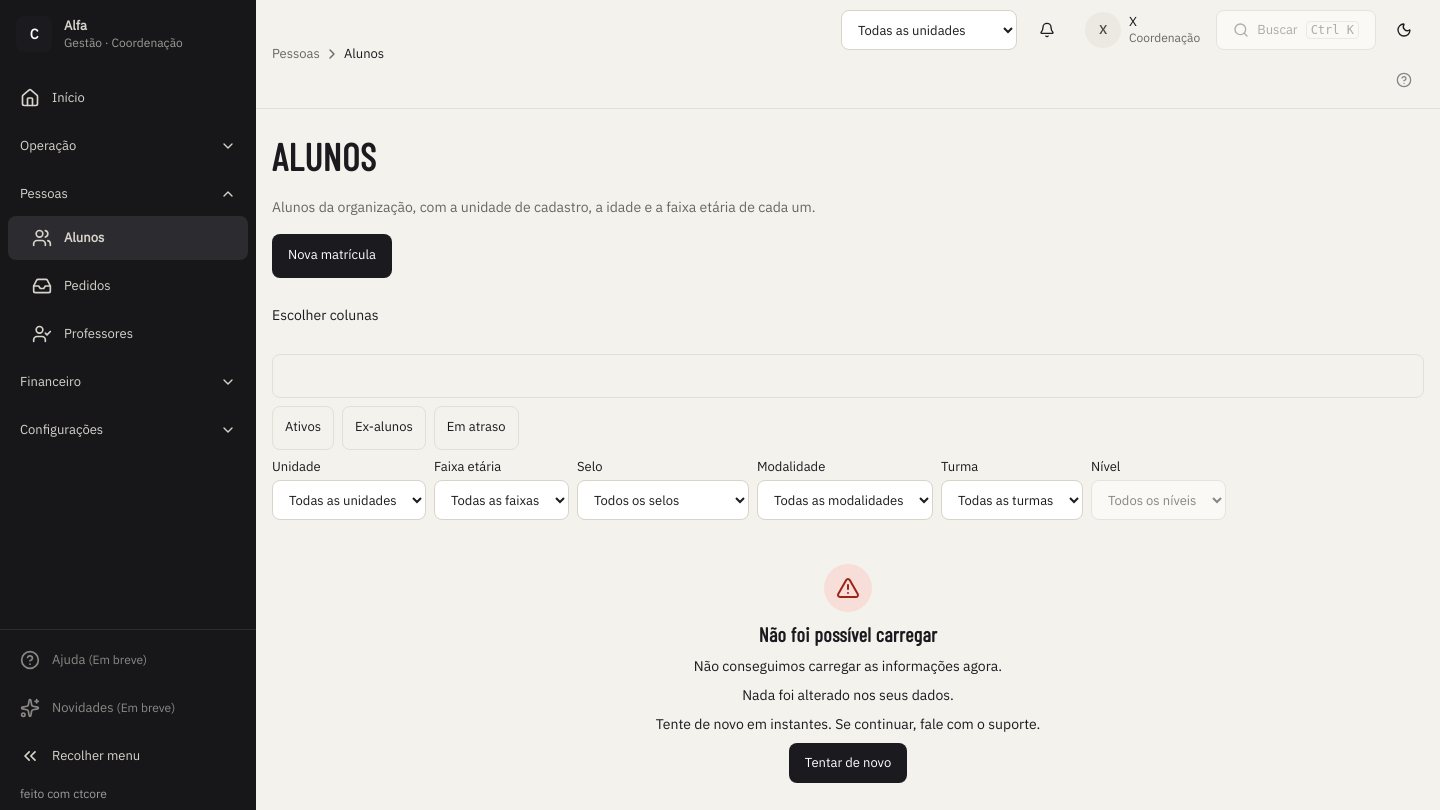
Test case: StudentsPage › CA9: erro com Tentar de novo refaz a consulta
Click the button "Tentar de novo": (848,763) [789,743,907,783]
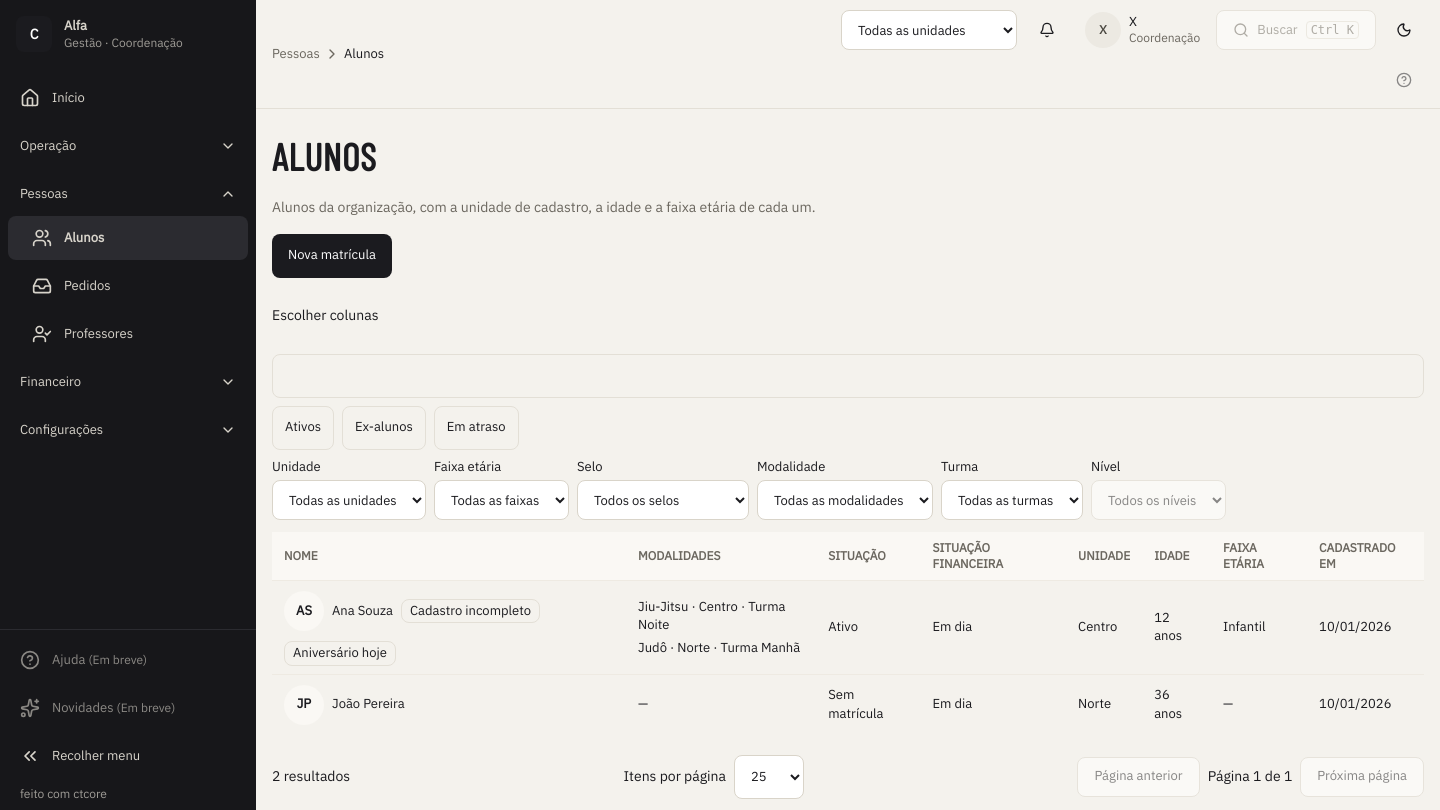
Result: the link "Ana Souza" is shown at [332,602,393,619]
